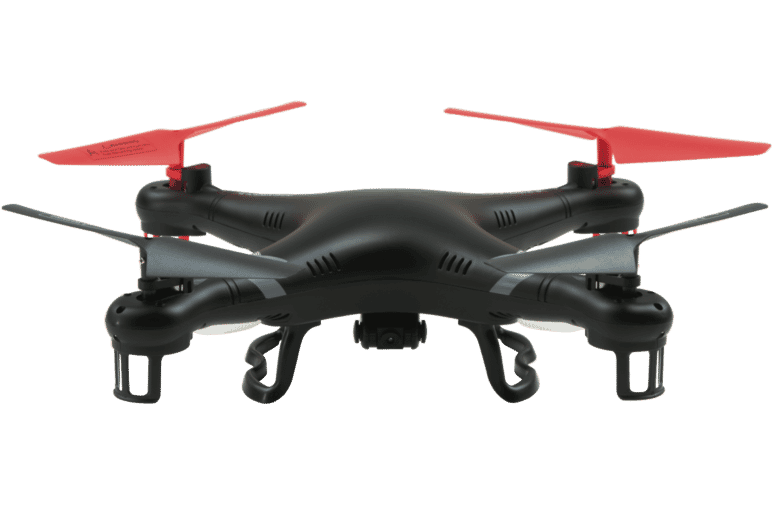drone: (2, 99, 773, 406)
